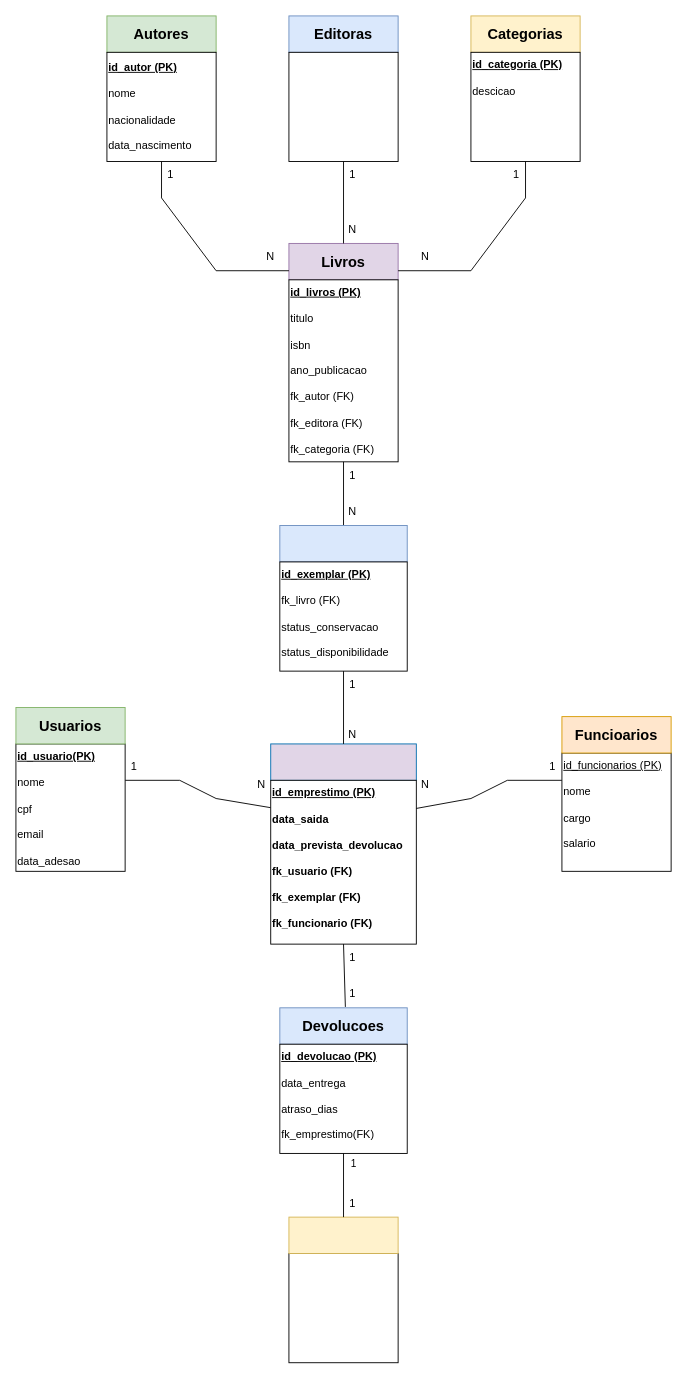
Image size: 687x1380. Some labels were removed from this diagram. Here are the shapes that lost their labels. From the top down, the centre of each, then its label:
At point (343, 106): "id_editora (PK) nome_fantasia cidade contato".
At point (343, 543): "Exemplares".
At point (343, 761): "Emprestimos".
At point (343, 1235): "Multas".
At point (343, 1308): "id_devolucao (PK) valor_multa status_pagamento fk_devolucao (FK)".
